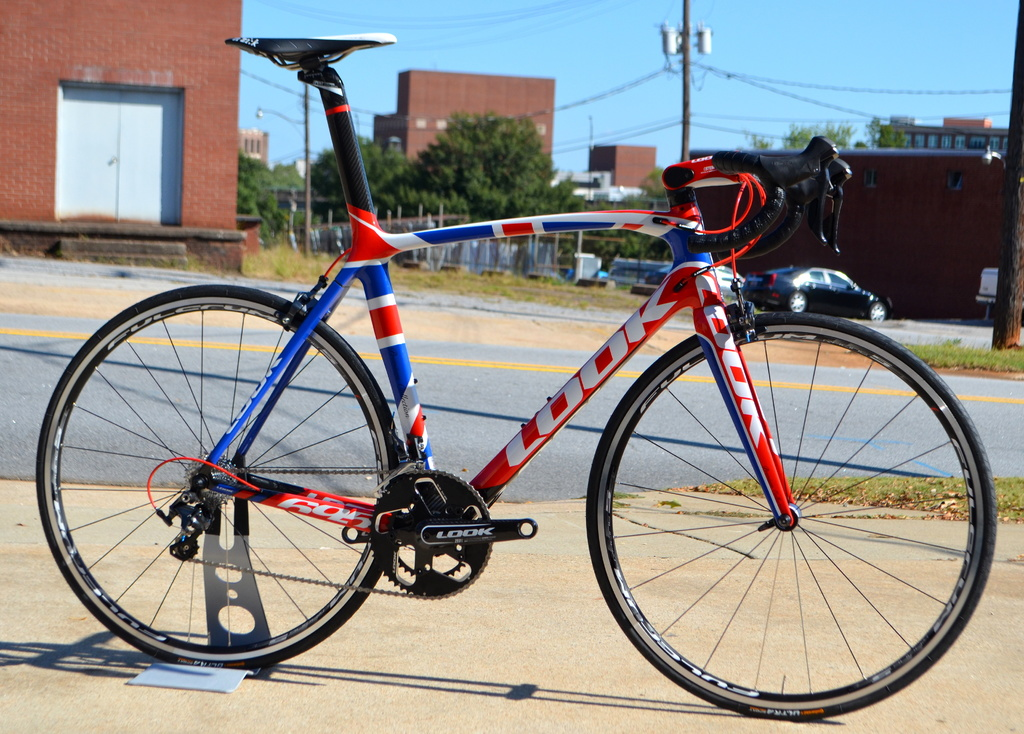bicycle: (56, 93, 991, 710)
